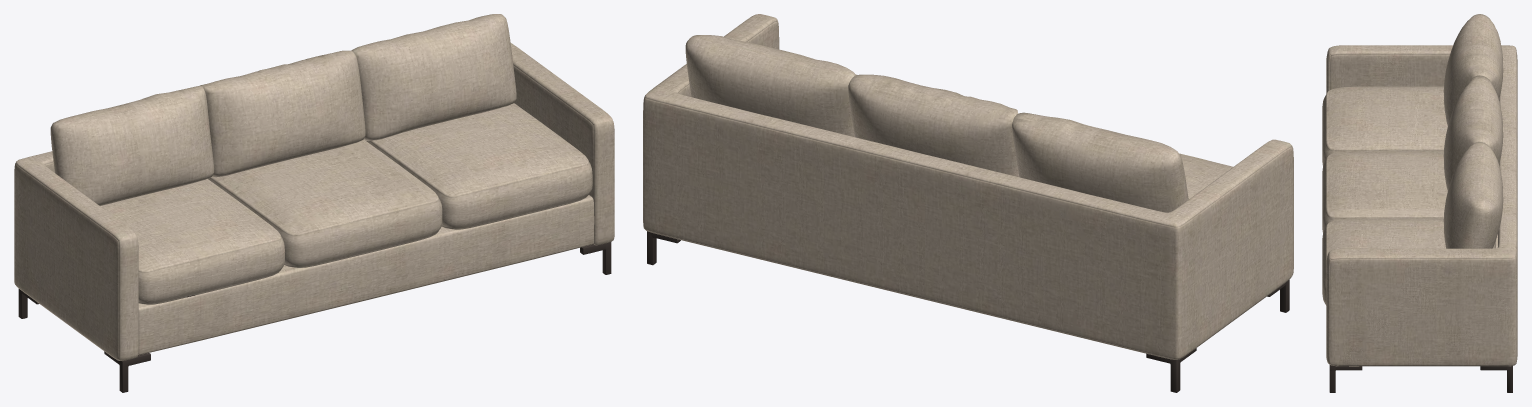
The model's file is B07B4G5QDB.glb.
3 views of the same model, side by side, from view 1: azimuth 30°, elevation 25°; view 2: azimuth 150°, elevation 25°; view 3: azimuth 270°, elevation 25° (orthographic). The views are drawn at different scales.
Parts seen in each view (by area): view 1: RootNode; view 2: RootNode; view 3: RootNode.
Boxes of the visible parts, x1,y1,x2,y2 form: RootNode: [14, 14, 614, 392]; RootNode: [643, 14, 1293, 392]; RootNode: [1322, 14, 1517, 392].
Size of the model in its own units: 2.22 by 0.8744 by 0.859.
1 material, 1 textured.
